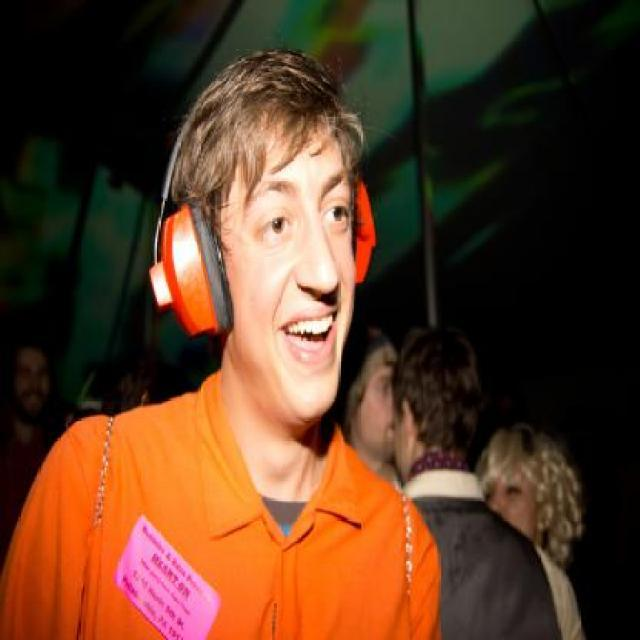earphone: (142, 71, 402, 332)
